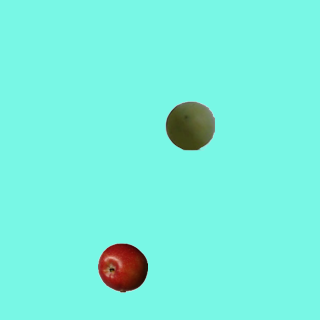Apple Braeburn: (97, 242, 147, 292)
Grape White 4: (164, 100, 214, 150)
